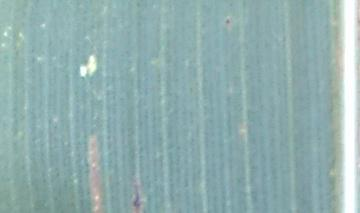tarspot: (132, 189, 144, 209), (224, 17, 232, 28)
